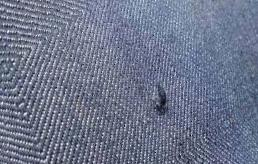knot: (148, 85, 172, 117)
